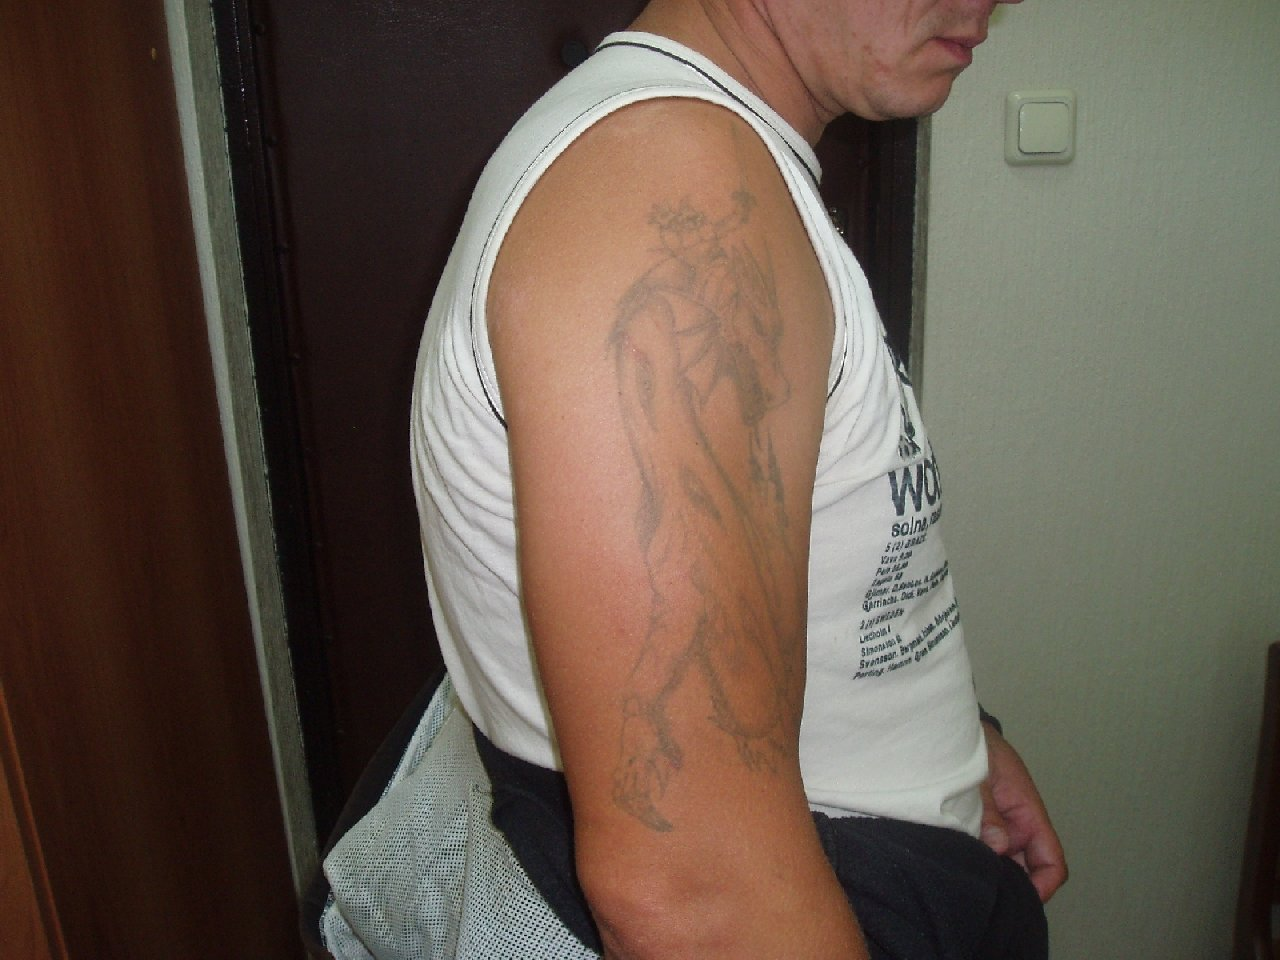tatu6_drakon: (590, 177, 836, 836)
